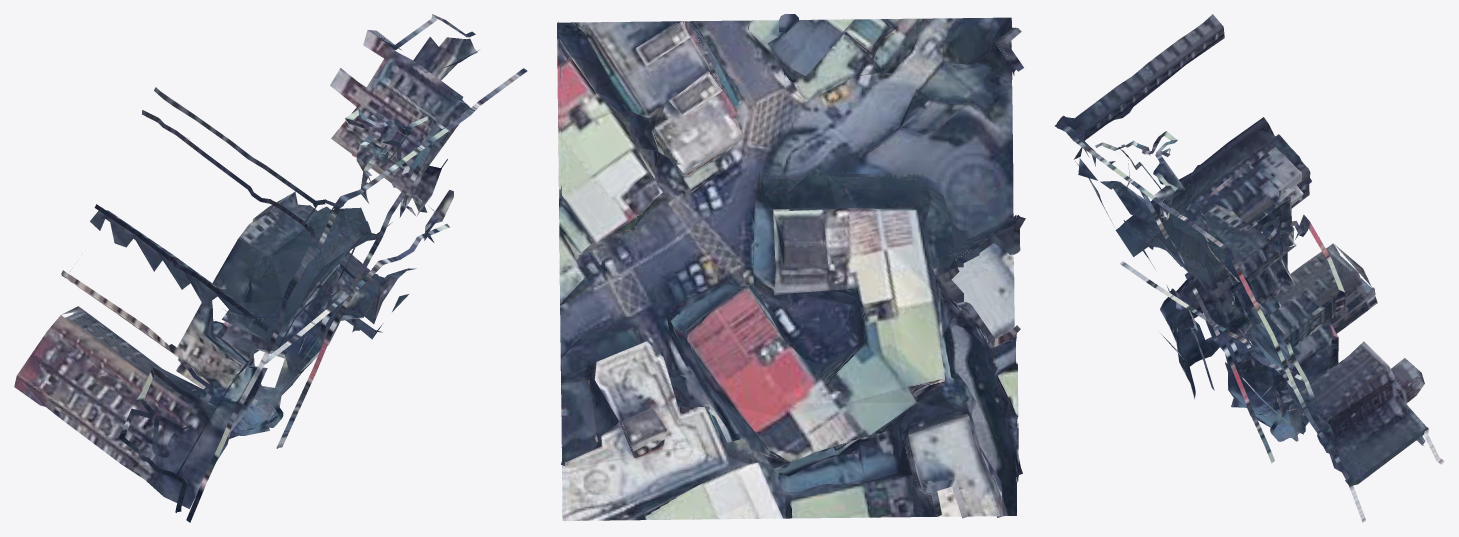
3 views of the same model, side by side, from view 1: azimuth 30°, elevation 25°; view 2: azimuth 150°, elevation 25°; view 3: azimuth 270°, elevation 25° (orthographic). The views are drawn at different scales.
Size of the model in its own units: 93.2 by 85.61 by 79.61.
2 materials, 2 textured.
